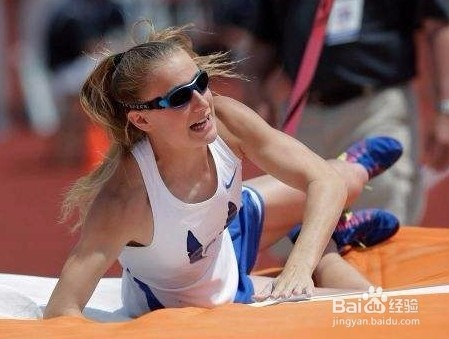falling: (15, 13, 427, 326)
